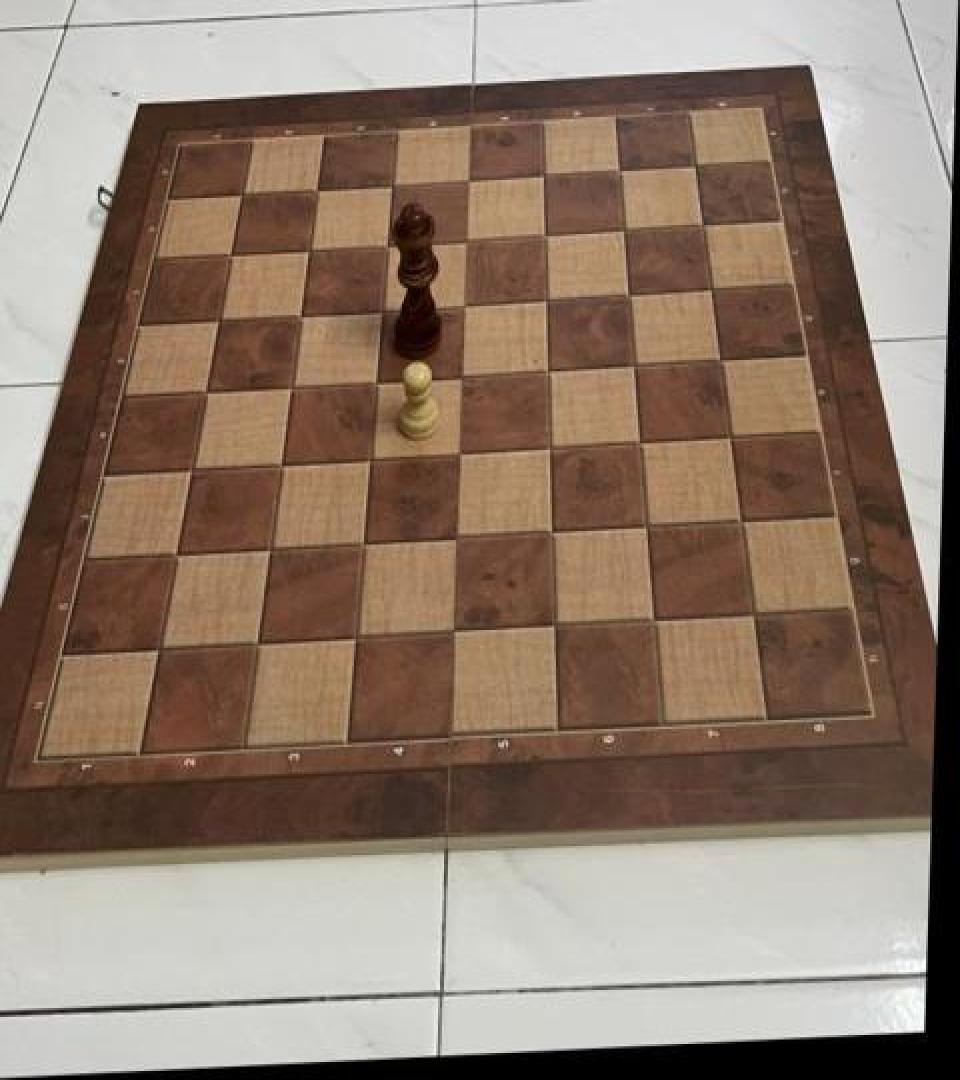xcorner: (525, 156, 559, 195), (223, 175, 257, 214), (694, 272, 728, 311), (364, 291, 398, 330), (530, 353, 564, 392), (678, 148, 712, 186), (602, 152, 636, 190), (449, 161, 483, 199), (373, 166, 407, 204), (298, 171, 332, 209), (686, 207, 720, 245), (606, 212, 640, 250), (527, 217, 561, 255), (448, 222, 482, 260), (369, 226, 403, 264), (290, 232, 324, 270), (212, 236, 246, 274), (611, 277, 645, 315), (528, 282, 562, 320), (446, 287, 480, 325), (282, 297, 316, 335), (200, 302, 234, 340), (703, 343, 737, 381), (616, 348, 650, 386), (444, 358, 478, 396), (358, 364, 392, 402), (273, 368, 307, 406), (188, 372, 222, 410), (712, 420, 746, 458), (622, 426, 656, 464), (531, 430, 565, 468), (441, 436, 475, 474), (352, 440, 386, 478), (263, 446, 297, 484), (174, 450, 208, 488), (723, 505, 757, 543), (628, 510, 662, 548), (533, 516, 567, 554), (439, 520, 473, 558), (345, 526, 379, 564), (252, 530, 286, 568), (159, 536, 193, 574), (734, 598, 768, 636), (634, 603, 668, 641), (535, 609, 569, 647), (436, 613, 470, 651), (338, 619, 372, 657), (240, 624, 274, 662), (142, 629, 176, 667)
